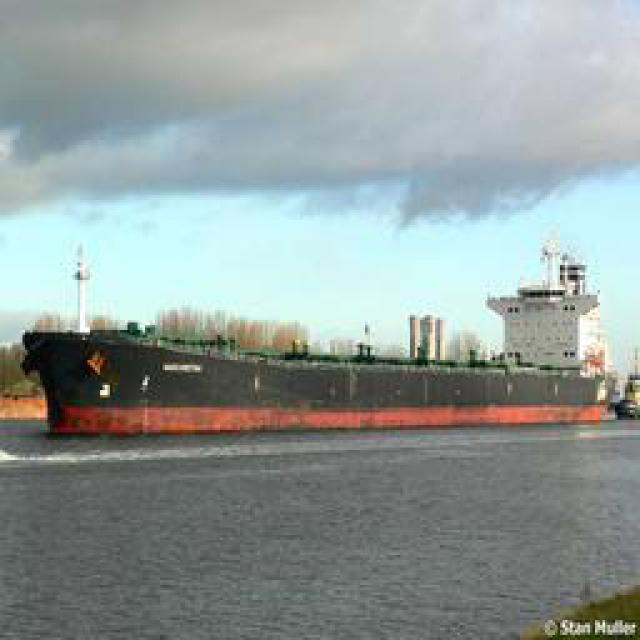Ship: (29, 331, 619, 439)
